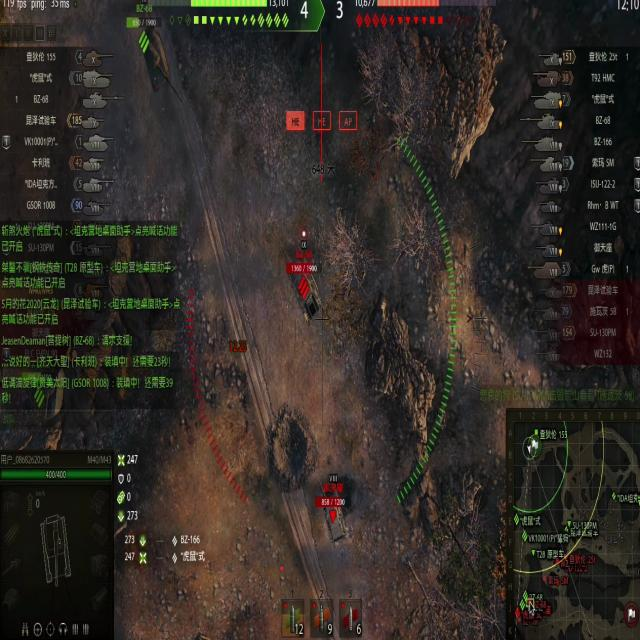tank: (285, 246, 326, 324), (317, 487, 352, 553)
